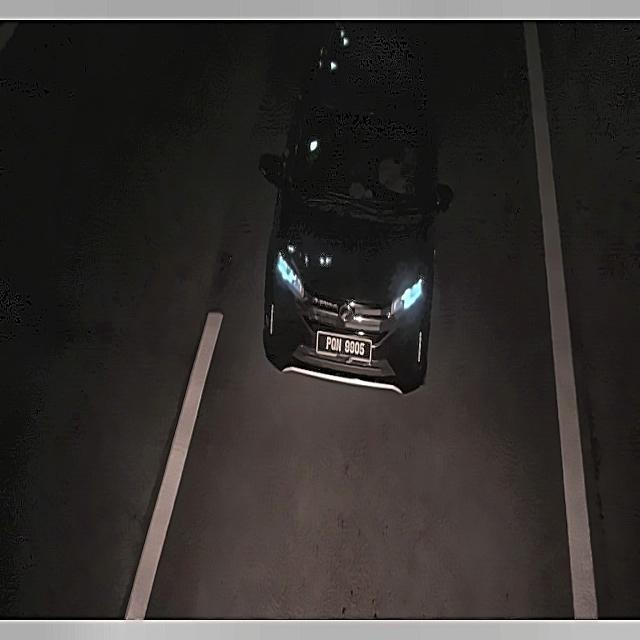car: (312, 320, 377, 372)
